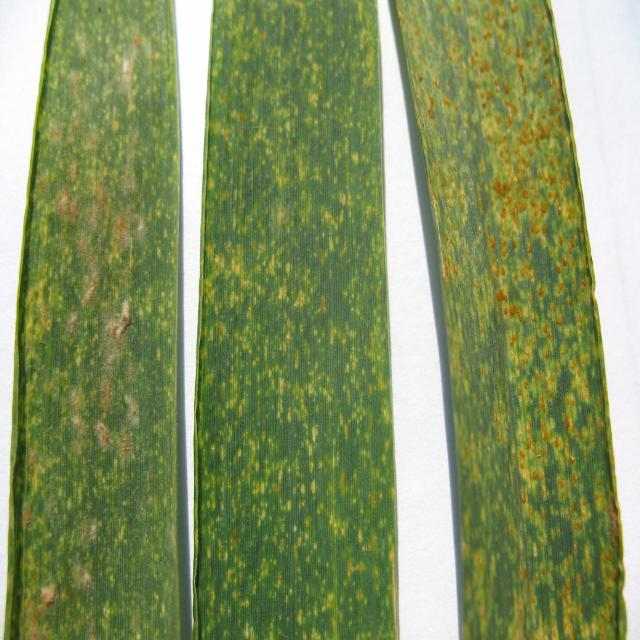wheat-powdery-mildew: (55, 174, 151, 349), (93, 299, 141, 474), (71, 519, 101, 597), (119, 31, 146, 113), (66, 389, 92, 449), (36, 582, 59, 613), (125, 138, 138, 191)
wheat-stemrust: (470, 1, 607, 500), (507, 477, 617, 639), (413, 71, 480, 291), (608, 493, 622, 545)
